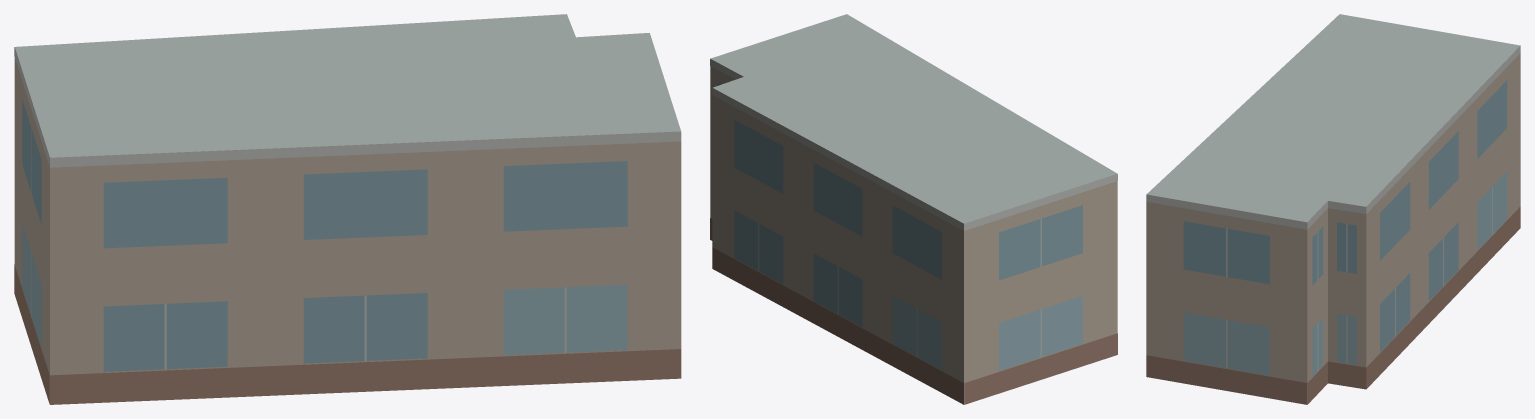
The model's file is survey-upis-32659976.glb.
3 renders of one model, left to right at view 1: azimuth 30°, elevation 25°; view 2: azimuth 150°, elevation 25°; view 3: azimuth 270°, elevation 25°, orthographic. The views are drawn at different scales.
Parts seen in each view (by area): view 1: survey-upis-32659976.tmp; view 2: survey-upis-32659976.tmp; view 3: survey-upis-32659976.tmp.
Part boxes in pixels (x1,y1,x2,y2): survey-upis-32659976.tmp: (14, 14, 681, 404); survey-upis-32659976.tmp: (710, 14, 1117, 404); survey-upis-32659976.tmp: (1146, 14, 1520, 404).
Bounding box in the file's own units: 14.94 × 6.1 × 11.34.
